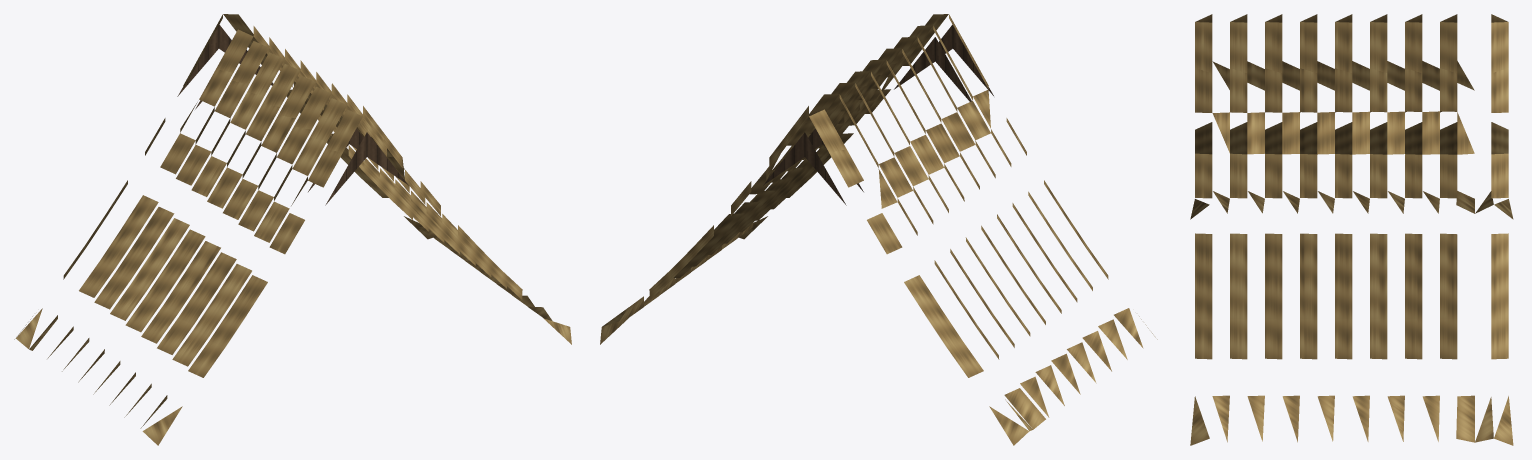
File: Roof_Thatch_6x4_LOD2.gltf
3 views of the same model, side by side, from view 1: azimuth 30°, elevation 25°; view 2: azimuth 150°, elevation 25°; view 3: azimuth 270°, elevation 25° (orthographic). The views are drawn at different scales.
Parts seen in each view (by area): view 1: Roof_Thatch_6x4_LOD2; view 2: Roof_Thatch_6x4_LOD2; view 3: Roof_Thatch_6x4_LOD2.
Boxes of the visible parts, <box> form: Roof_Thatch_6x4_LOD2: <box>14,14,571,445</box>; Roof_Thatch_6x4_LOD2: <box>600,14,1157,445</box>; Roof_Thatch_6x4_LOD2: <box>1190,14,1513,445</box>.
Bounding box in the file's own units: 8.25 × 5.17 × 4.95.
2 materials, 2 textured.
